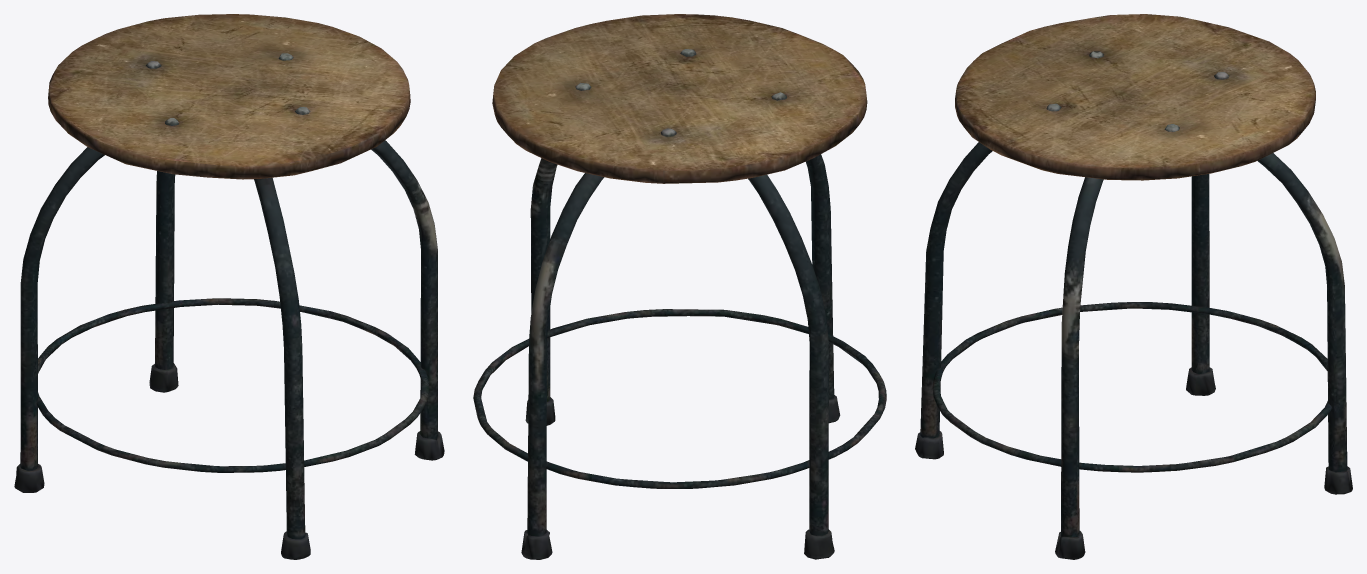
Rendered from metal_stool_02.glb.
3 views of the same model, side by side, from view 1: azimuth 30°, elevation 25°; view 2: azimuth 150°, elevation 25°; view 3: azimuth 270°, elevation 25° (orthographic). The views are drawn at different scales.
Parts seen in each view (by area): view 1: metal_stool_02; view 2: metal_stool_02; view 3: metal_stool_02.
Part boxes in pixels (box(x1,y1,x2,y2)): metal_stool_02: box(14, 14, 444, 559); metal_stool_02: box(473, 14, 886, 559); metal_stool_02: box(915, 14, 1352, 559).
Size of the model in its own units: 0.4471 by 0.4579 by 0.4725.
Materials: 1 (1 with a texture image).
